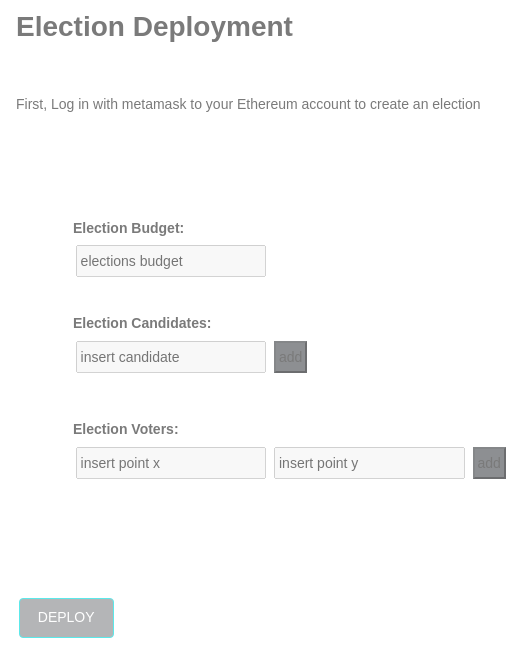
Test: Deployer: Input validation › Test budget input
Type "23" into the number field labelled "Election Budget:" at (171, 261), box [76,245,266,277]
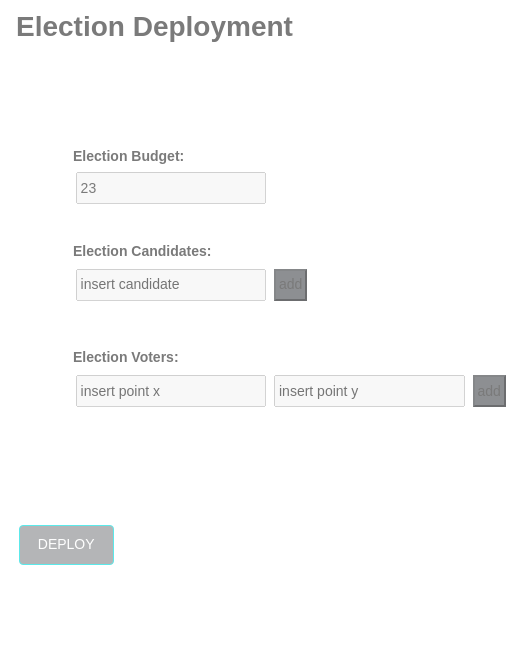
Replace the text in the number field labelled "Election Budget:" with "23a" at (171, 188), box [76,172,266,204]
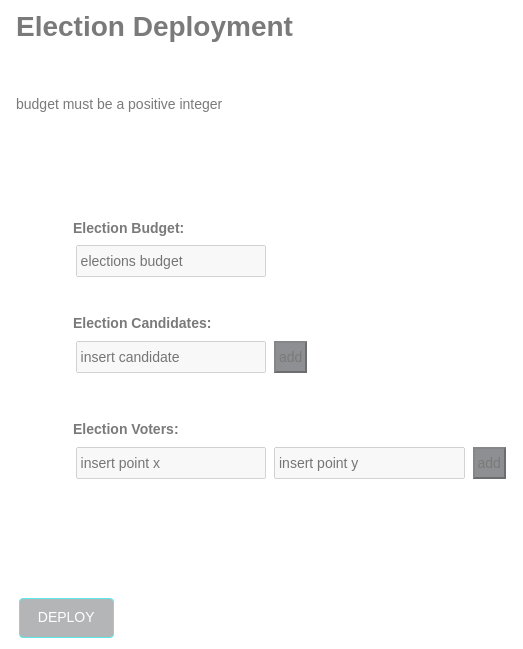
Result: the text "budget must be a positive integer" is shown at [16,96,222,112]
Type "1" into the number field labelled "Election Budget:" at (171, 261), box [76,245,266,277]
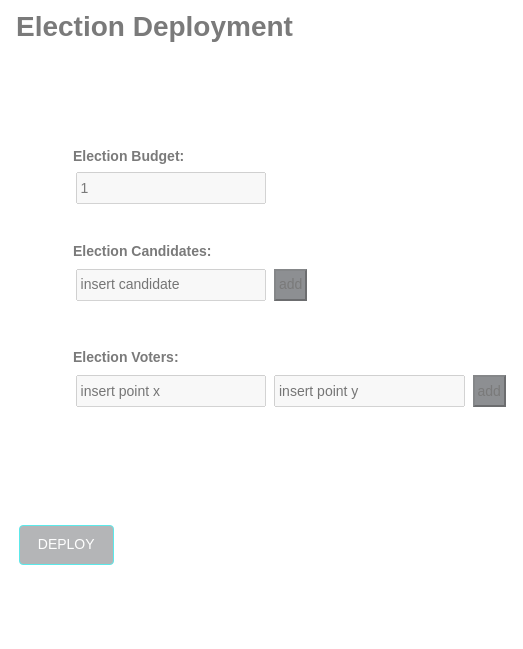
Replace the text in the number field labelled "Election Budget:" with "-1" at (171, 188), box [76,172,266,204]
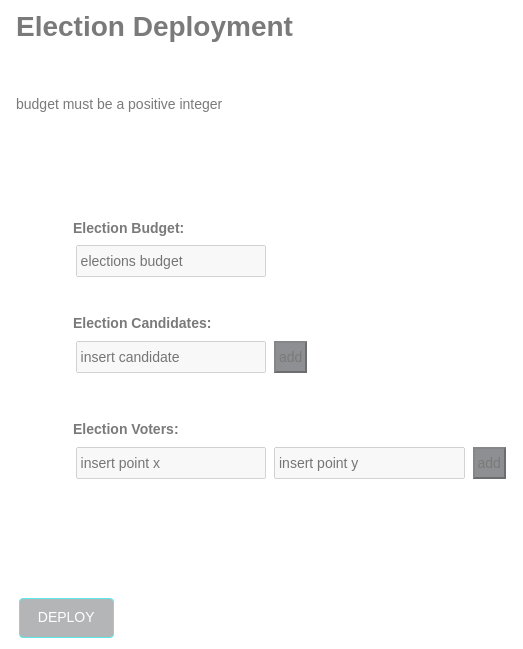
Result: the text "budget must be a positive integer" is shown at [16,96,222,112]
